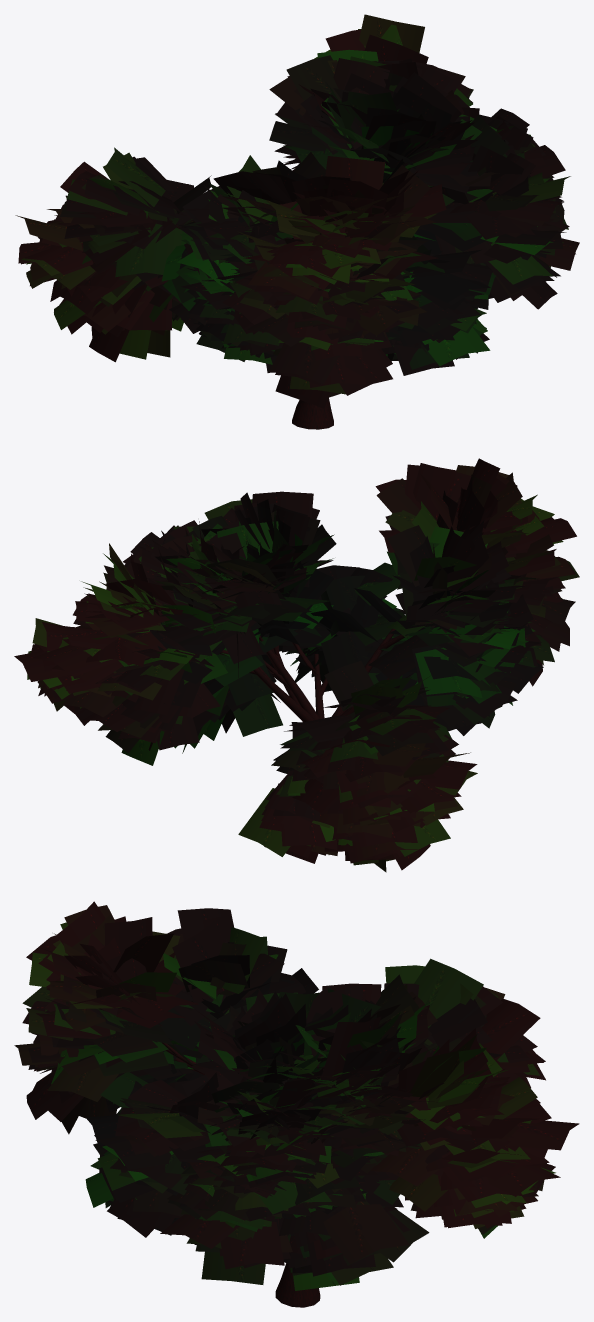
Rendered from veg_tamarind1.glb.
3 renders of one model, top to bottom at view 1: azimuth 30°, elevation 25°; view 2: azimuth 150°, elevation 25°; view 3: azimuth 270°, elevation 25°, orthographic. The views are drawn at different scales.
Parts seen in each view (by area): view 1: tamarind_1; view 2: tamarind_1; view 3: tamarind_1.
Boxes of the visible parts, x1,y1,x2,y2 form: tamarind_1: (15,14,579,429); tamarind_1: (14,458,579,872); tamarind_1: (14,901,579,1307).
Size of the model in its own units: 16.51 by 11.55 by 16.62.
Materials: 2 (2 with a texture image).
